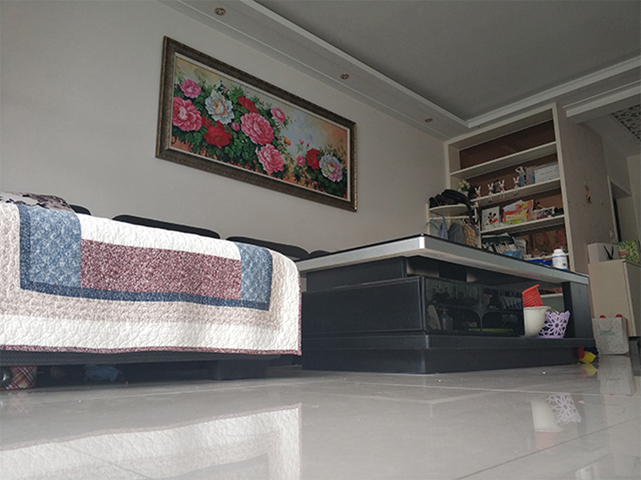sofa: (1, 191, 305, 392)
table: (293, 231, 599, 377)
